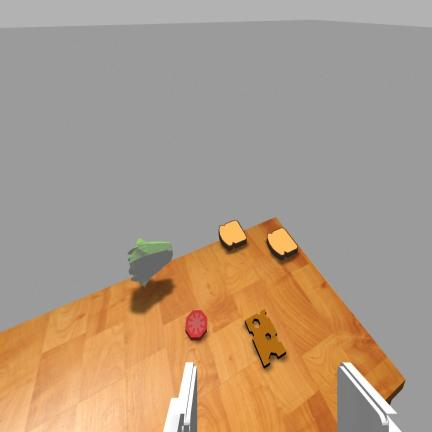cheese: (245, 310, 286, 367)
lettuce: (128, 238, 172, 285)
sliced_bread: (267, 228, 298, 259), (219, 220, 246, 250)
sliced_tomato: (186, 310, 207, 340)
